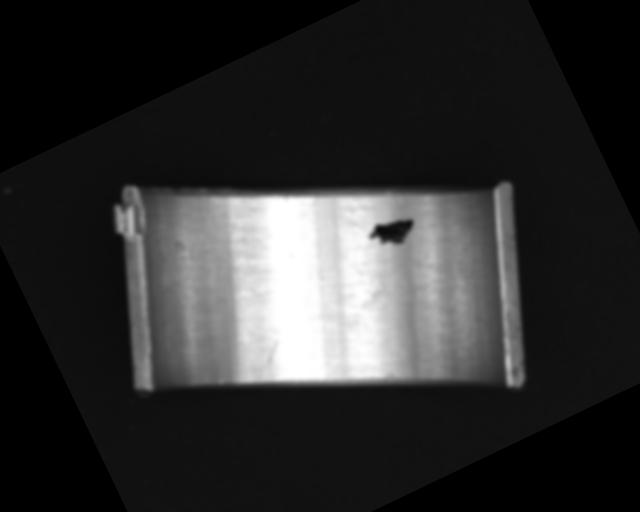blot: (347, 254, 418, 312), (362, 206, 421, 257)
bruise: (385, 371, 397, 383), (280, 193, 291, 204)
nick: (249, 338, 294, 384)
